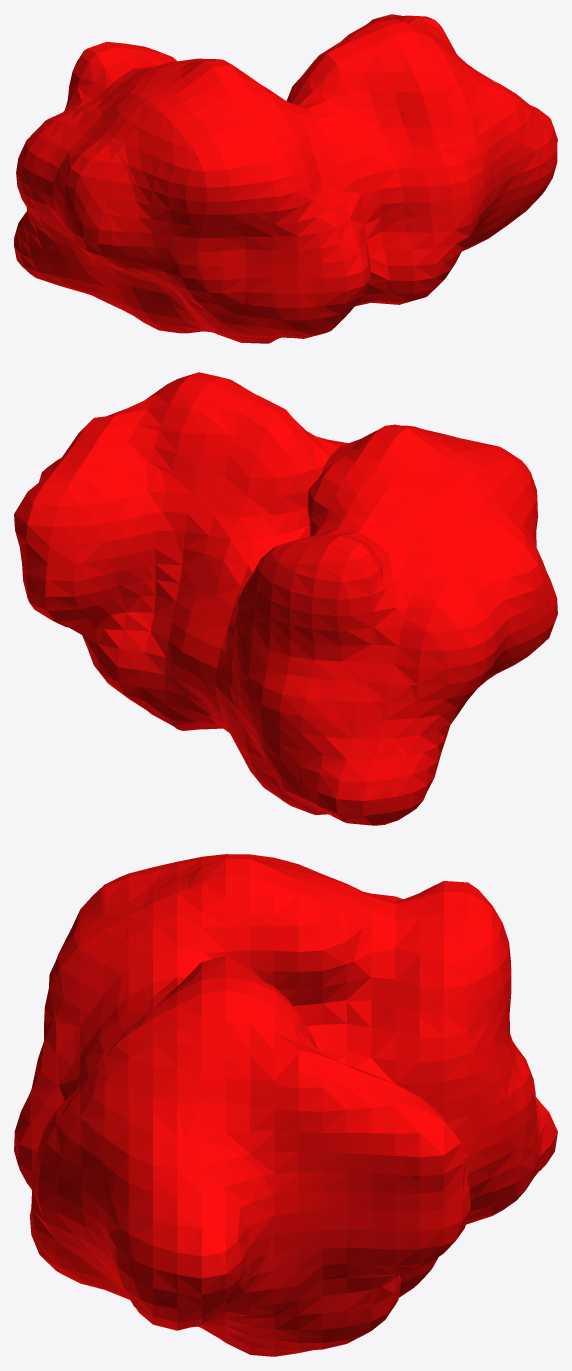
The model's file is sfsA_coarse.dae.
3 views of the same model, one above another, from view 1: azimuth 30°, elevation 25°; view 2: azimuth 150°, elevation 25°; view 3: azimuth 270°, elevation 25° (orthographic). The views are drawn at different scales.
Visible parts, largest first — view 1: sfsA; view 2: sfsA; view 3: sfsA.
Part boxes in pixels (bbox=[...]): sfsA: bbox=[14, 14, 557, 343]; sfsA: bbox=[14, 372, 557, 825]; sfsA: bbox=[14, 854, 557, 1356].
Size of the model in its own units: 64.11 by 39.83 by 46.8.
